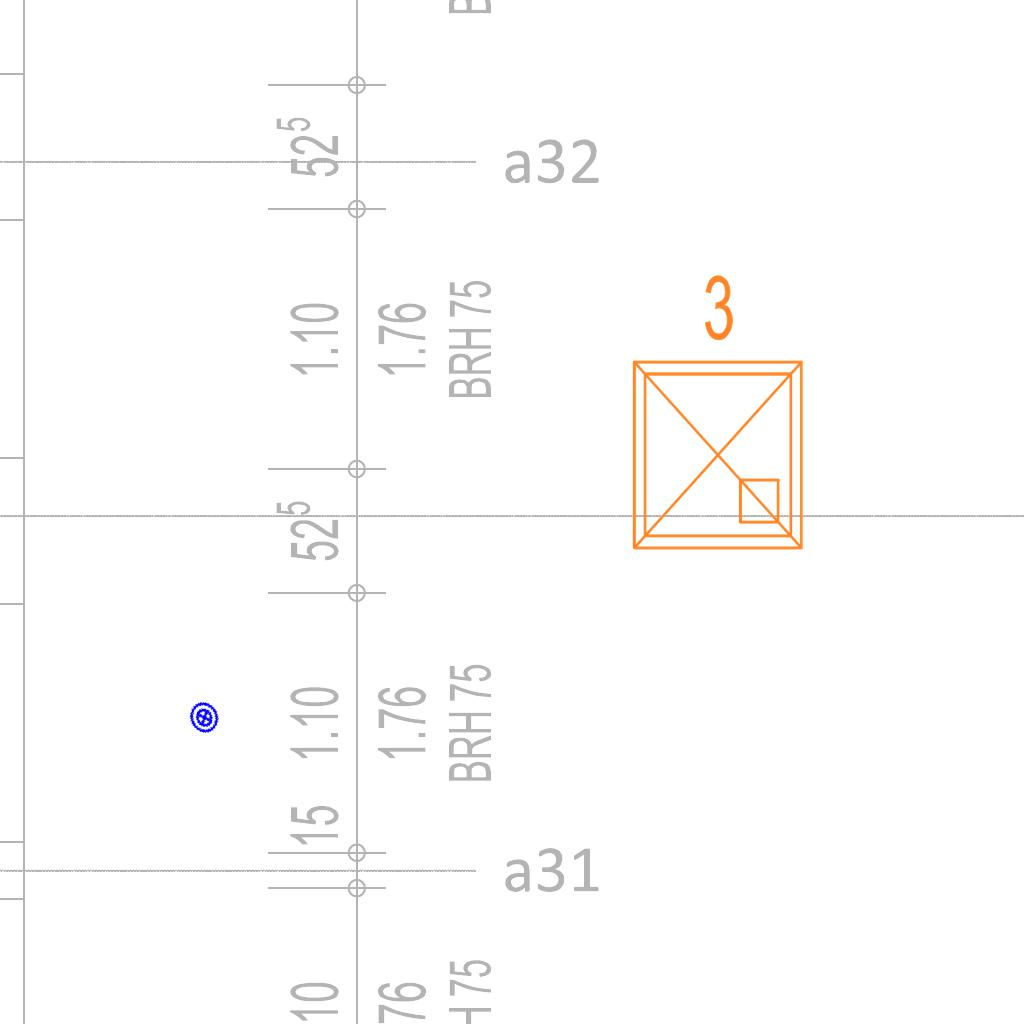Einbaudownlights_LED_Konferenzraeume: (610, 264, 818, 564)
Taster_beleuchtet: (182, 695, 227, 740)
